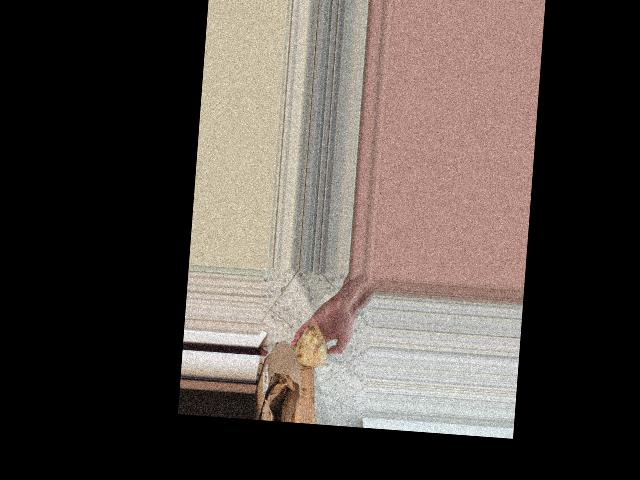onion: (293, 320, 329, 372)
